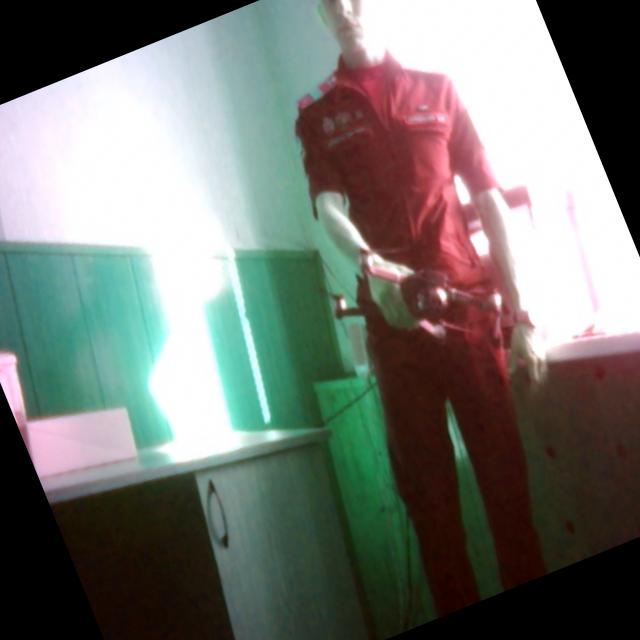drone: (290, 175, 548, 428)
